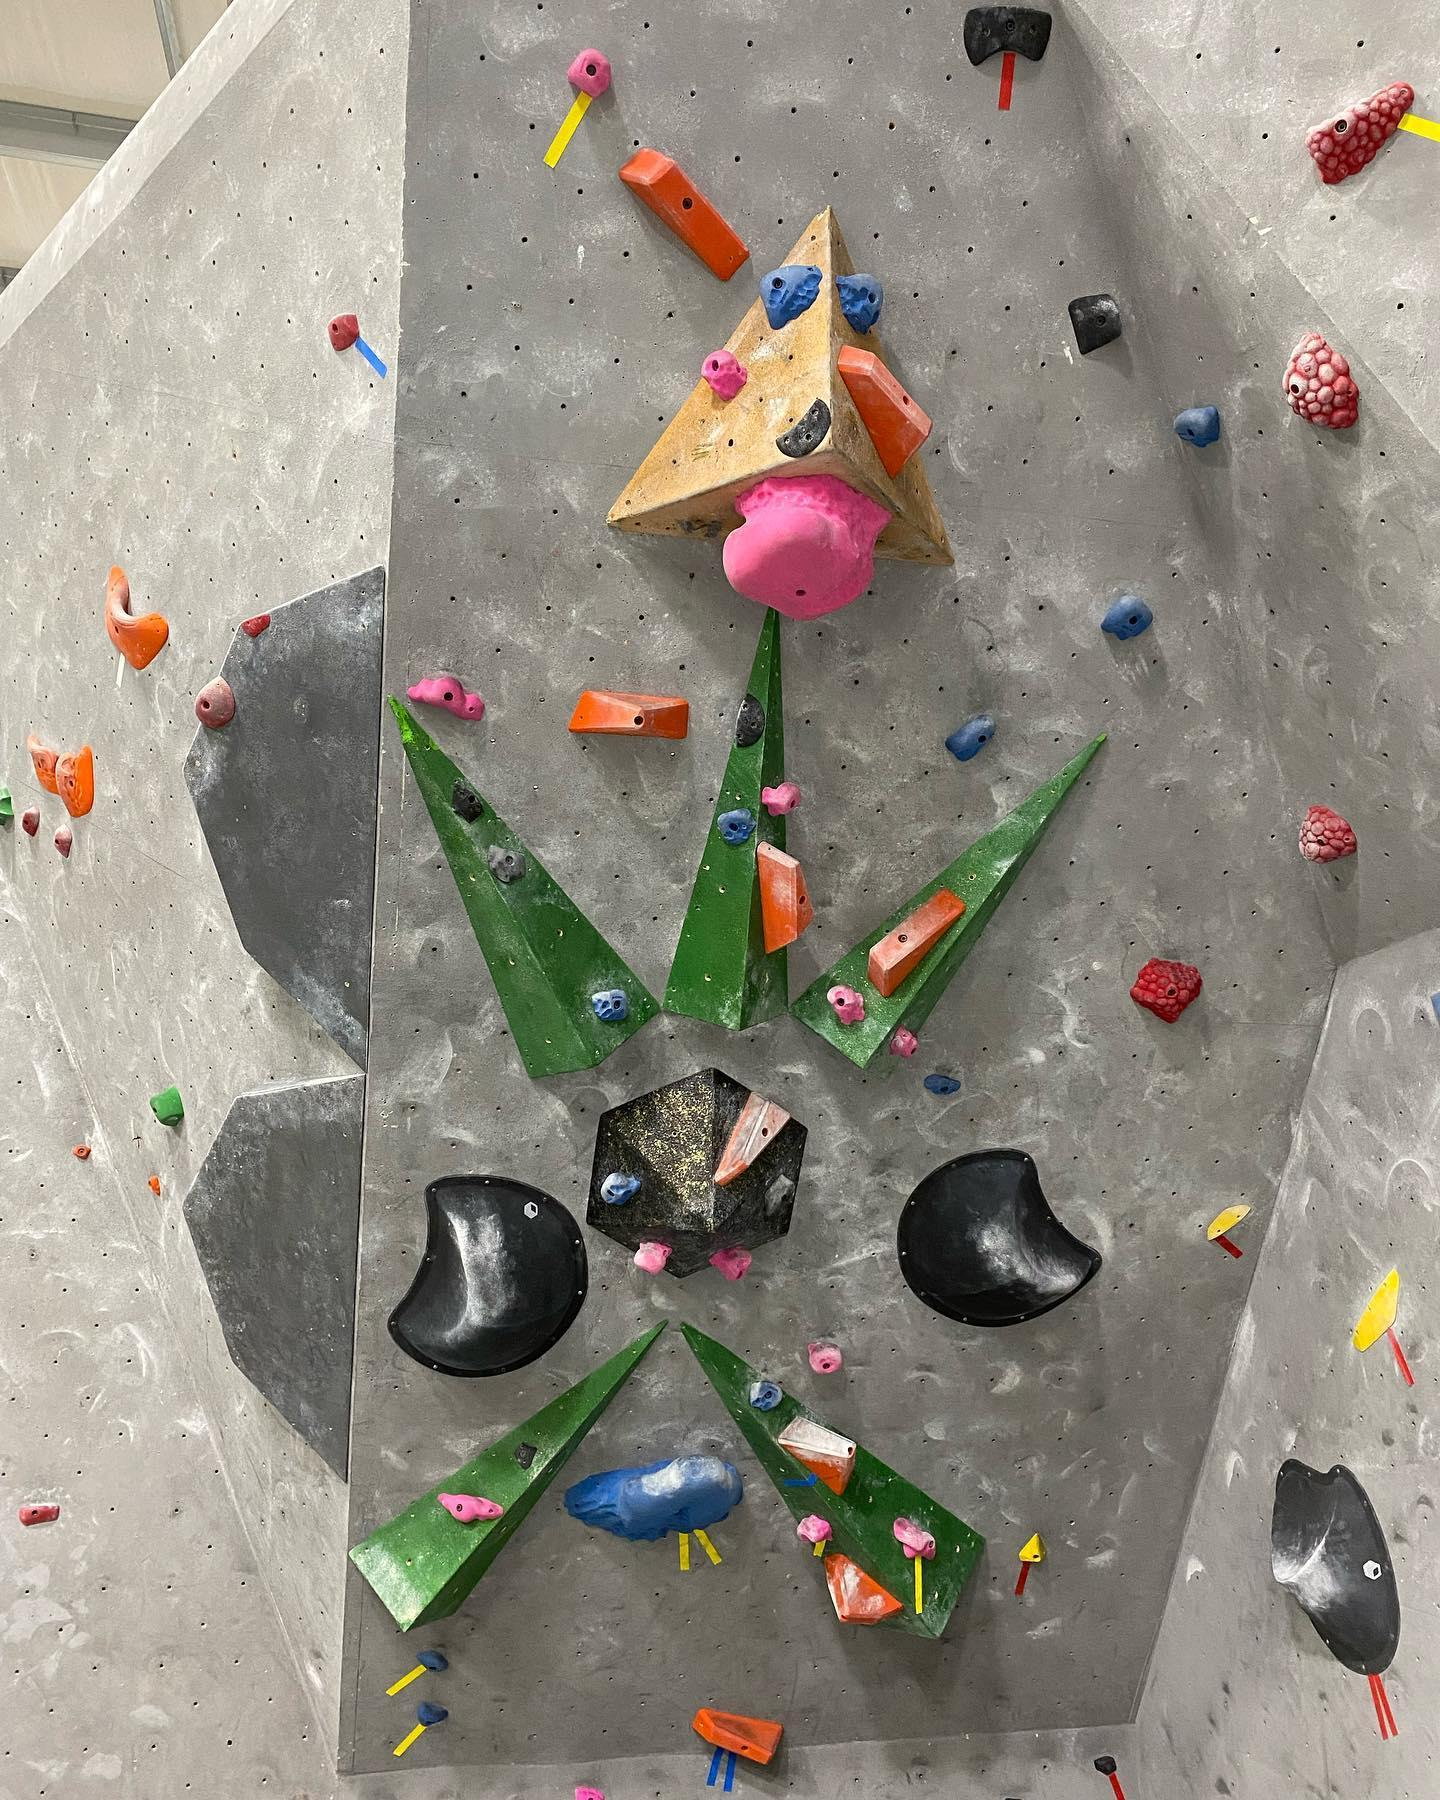hold: (385, 1173, 589, 1380), (896, 1148, 1104, 1327), (1271, 1458, 1400, 1677), (721, 475, 893, 620), (617, 145, 749, 281), (561, 1453, 745, 1543), (838, 344, 935, 482), (1305, 79, 1415, 185), (865, 886, 967, 998), (1280, 331, 1361, 431), (716, 1090, 792, 1186), (103, 564, 169, 670), (755, 839, 816, 955), (777, 1415, 857, 1496), (823, 1553, 904, 1627), (569, 689, 689, 738), (691, 1707, 786, 1766), (962, 6, 1052, 66), (1128, 957, 1202, 1024), (755, 264, 823, 329), (1352, 1264, 1399, 1352), (1299, 805, 1361, 865), (1065, 291, 1123, 356), (407, 676, 486, 721), (776, 397, 832, 457), (835, 272, 885, 334), (54, 744, 94, 817), (945, 711, 998, 763), (564, 44, 613, 97), (699, 350, 749, 400), (1101, 594, 1155, 639), (192, 676, 237, 727), (438, 1491, 504, 1525), (892, 1516, 937, 1560), (26, 733, 60, 792), (1174, 406, 1220, 448), (733, 692, 767, 749), (486, 843, 528, 885), (826, 984, 865, 1026), (708, 1245, 752, 1281), (1206, 1205, 1250, 1242), (717, 807, 757, 846), (760, 780, 802, 817), (451, 779, 486, 823), (600, 1173, 642, 1206), (150, 1086, 185, 1126), (633, 1242, 673, 1277), (591, 989, 630, 1021), (326, 312, 359, 351), (764, 1174, 793, 1217), (807, 1343, 843, 1375), (748, 1380, 783, 1412), (888, 1024, 920, 1058), (796, 1515, 833, 1543), (1018, 1531, 1048, 1563), (18, 1503, 60, 1525), (240, 613, 270, 639), (416, 1649, 448, 1674), (416, 1702, 450, 1725), (923, 1074, 961, 1095), (51, 823, 72, 858), (513, 1441, 538, 1468), (21, 807, 41, 838), (0, 786, 15, 826), (1093, 1754, 1118, 1776), (575, 1784, 605, 1800), (73, 1143, 93, 1159), (147, 1174, 160, 1196)
volume: (605, 206, 955, 566), (788, 729, 1109, 1081), (385, 688, 663, 1079), (181, 563, 382, 1077), (676, 1314, 987, 1637), (348, 1320, 669, 1631), (179, 1074, 367, 1486), (663, 605, 789, 1032), (586, 1065, 808, 1280)
